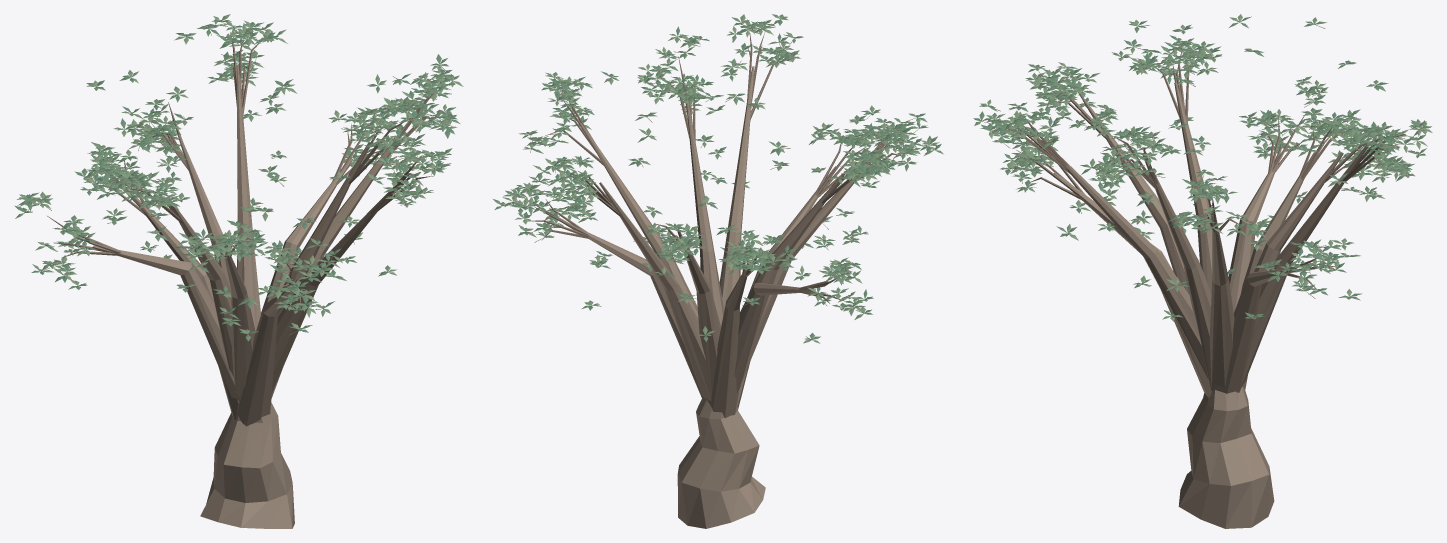
File: E07_R2Z2_FIGUEIRA_QUINTAL_EM_PE_CANDIDATA_REV04.glb
3 views of the same model, side by side, from view 1: azimuth 30°, elevation 25°; view 2: azimuth 150°, elevation 25°; view 3: azimuth 270°, elevation 25° (orthographic). The views are drawn at different scales.
Parts seen in each view (by area): view 1: E07_R2Z2_FIGUEIRA_QUINTAL_bark, E07_R2Z2_FIGUEIRA_QUINTAL_leaf4, E07_R2Z2_FIGUEIRA_QUINTAL_leaf5, E07_R2Z2_FIGUEIRA_QUINTAL_leaf2, E07_R2Z2_FIGUEIRA_QUINTAL_leaf0, E07_R2Z2_FIGUEIRA_QUINTAL_leaf1, E07_R2Z2_FIGUEIRA_QUINTAL_leaf3, E07_R2Z2_FIGUEIRA_QUINTAL_twig; view 2: E07_R2Z2_FIGUEIRA_QUINTAL_bark, E07_R2Z2_FIGUEIRA_QUINTAL_twig, E07_R2Z2_FIGUEIRA_QUINTAL_leaf1, E07_R2Z2_FIGUEIRA_QUINTAL_leaf0, E07_R2Z2_FIGUEIRA_QUINTAL_leaf2, E07_R2Z2_FIGUEIRA_QUINTAL_leaf4, E07_R2Z2_FIGUEIRA_QUINTAL_leaf3, E07_R2Z2_FIGUEIRA_QUINTAL_leaf5; view 3: E07_R2Z2_FIGUEIRA_QUINTAL_bark, E07_R2Z2_FIGUEIRA_QUINTAL_twig, E07_R2Z2_FIGUEIRA_QUINTAL_leaf3, E07_R2Z2_FIGUEIRA_QUINTAL_leaf1, E07_R2Z2_FIGUEIRA_QUINTAL_leaf2, E07_R2Z2_FIGUEIRA_QUINTAL_leaf4, E07_R2Z2_FIGUEIRA_QUINTAL_leaf0, E07_R2Z2_FIGUEIRA_QUINTAL_leaf5.
Boxes of the visible parts, <box> form: E07_R2Z2_FIGUEIRA_QUINTAL_bark: <box>92,65,411,528</box>; E07_R2Z2_FIGUEIRA_QUINTAL_leaf4: <box>17,20,463,333</box>; E07_R2Z2_FIGUEIRA_QUINTAL_leaf5: <box>15,14,457,333</box>; E07_R2Z2_FIGUEIRA_QUINTAL_leaf2: <box>19,20,456,341</box>; E07_R2Z2_FIGUEIRA_QUINTAL_leaf0: <box>14,20,456,333</box>; E07_R2Z2_FIGUEIRA_QUINTAL_leaf1: <box>17,21,457,333</box>; E07_R2Z2_FIGUEIRA_QUINTAL_leaf3: <box>21,16,460,333</box>; E07_R2Z2_FIGUEIRA_QUINTAL_twig: <box>26,22,451,334</box>; E07_R2Z2_FIGUEIRA_QUINTAL_bark: <box>565,66,878,528</box>; E07_R2Z2_FIGUEIRA_QUINTAL_twig: <box>509,20,933,338</box>; E07_R2Z2_FIGUEIRA_QUINTAL_leaf1: <box>494,19,941,338</box>; E07_R2Z2_FIGUEIRA_QUINTAL_leaf0: <box>501,19,935,341</box>; E07_R2Z2_FIGUEIRA_QUINTAL_leaf2: <box>493,14,943,339</box>; E07_R2Z2_FIGUEIRA_QUINTAL_leaf4: <box>504,16,939,339</box>; E07_R2Z2_FIGUEIRA_QUINTAL_leaf3: <box>501,14,937,343</box>; E07_R2Z2_FIGUEIRA_QUINTAL_leaf5: <box>505,18,935,343</box>; E07_R2Z2_FIGUEIRA_QUINTAL_bark: <box>1041,82,1367,528</box>; E07_R2Z2_FIGUEIRA_QUINTAL_twig: <box>982,24,1421,319</box>; E07_R2Z2_FIGUEIRA_QUINTAL_leaf3: <box>979,17,1431,317</box>; E07_R2Z2_FIGUEIRA_QUINTAL_leaf1: <box>979,22,1422,317</box>; E07_R2Z2_FIGUEIRA_QUINTAL_leaf2: <box>983,21,1430,317</box>; E07_R2Z2_FIGUEIRA_QUINTAL_leaf4: <box>979,17,1432,321</box>; E07_R2Z2_FIGUEIRA_QUINTAL_leaf0: <box>973,16,1425,317</box>; E07_R2Z2_FIGUEIRA_QUINTAL_leaf5: <box>974,14,1427,319</box>.
Size of the model in its own units: 6.49 by 7.03 by 6.56.
